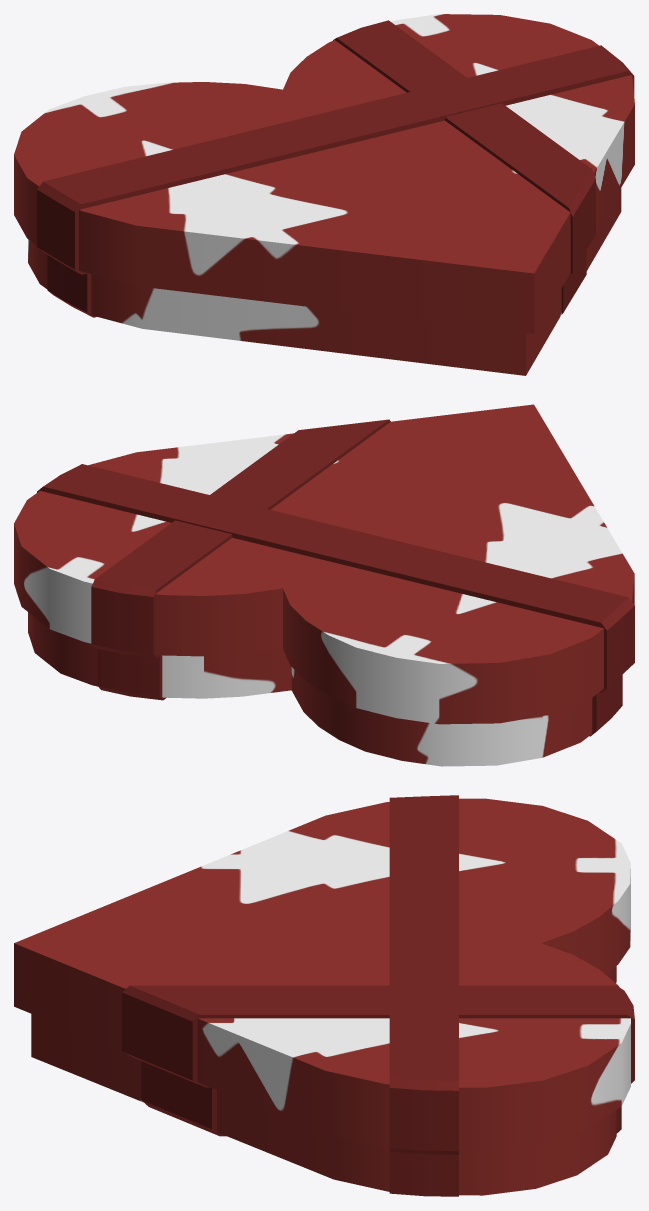
Rendered from PresentBox_Heart_01.fbx.
The picture shows the model from 3 angles, top to bottom: view 1: azimuth 30°, elevation 25°; view 2: azimuth 150°, elevation 25°; view 3: azimuth 270°, elevation 25°; orthographic projection. The views are drawn at different scales.
Parts seen in each view (by area): view 1: PresentBox_Heart_01_Top, PresentBox_Heart_01; view 2: PresentBox_Heart_01_Top, PresentBox_Heart_01; view 3: PresentBox_Heart_01_Top, PresentBox_Heart_01.
Part boxes in pixels (box(x1,y1,x2,y2)): PresentBox_Heart_01_Top: box(14, 14, 634, 333); PresentBox_Heart_01: box(28, 188, 621, 375); PresentBox_Heart_01_Top: box(14, 404, 634, 724); PresentBox_Heart_01: box(28, 612, 622, 766); PresentBox_Heart_01_Top: box(14, 795, 634, 1154); PresentBox_Heart_01: box(31, 966, 621, 1196).
Size of the model in its own units: 0.4682 by 0.0919 by 0.4207.
